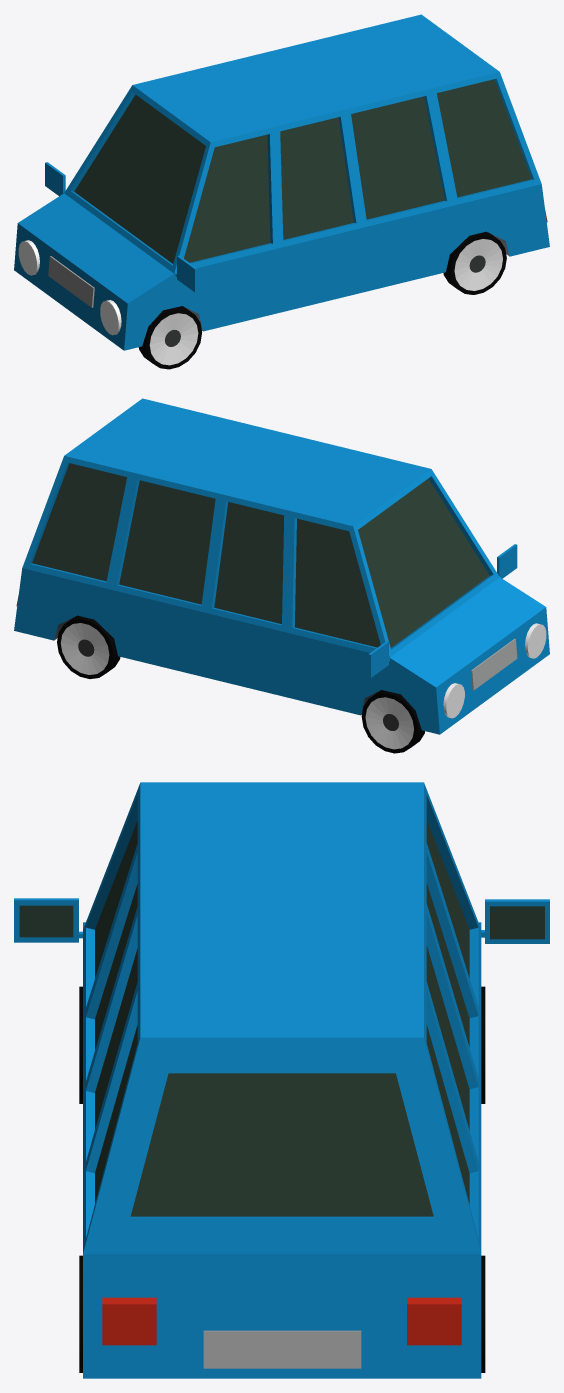
The model's file is car3C.FBX.
3 renders of one model, top to bottom at view 1: azimuth 30°, elevation 25°; view 2: azimuth 150°, elevation 25°; view 3: azimuth 270°, elevation 25°, orthographic. The views are drawn at different scales.
Parts seen in each view (by area): view 1: car3C; view 2: car3C; view 3: car3C.
Part boxes in pixels (bbox=[...]): car3C: bbox=[14, 14, 549, 369]; car3C: bbox=[14, 398, 549, 753]; car3C: bbox=[14, 782, 549, 1378].
Size of the model in its own units: 12.5 by 5.57 by 7.46.
